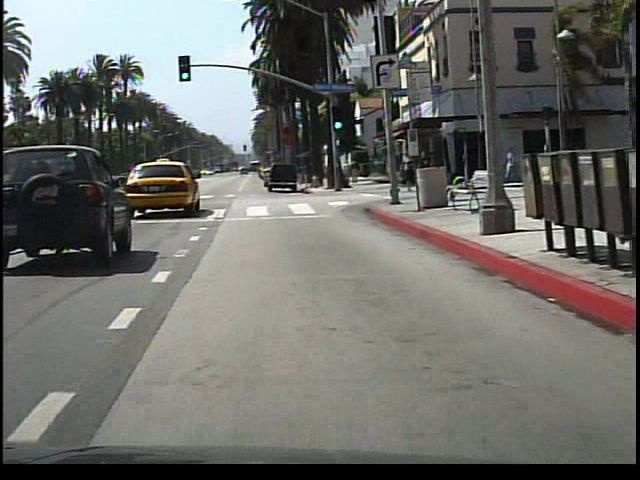person: (394, 148, 410, 196), (501, 142, 517, 186)
